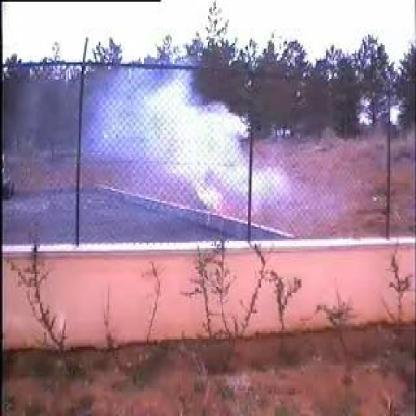-: (79, 62, 284, 236)
